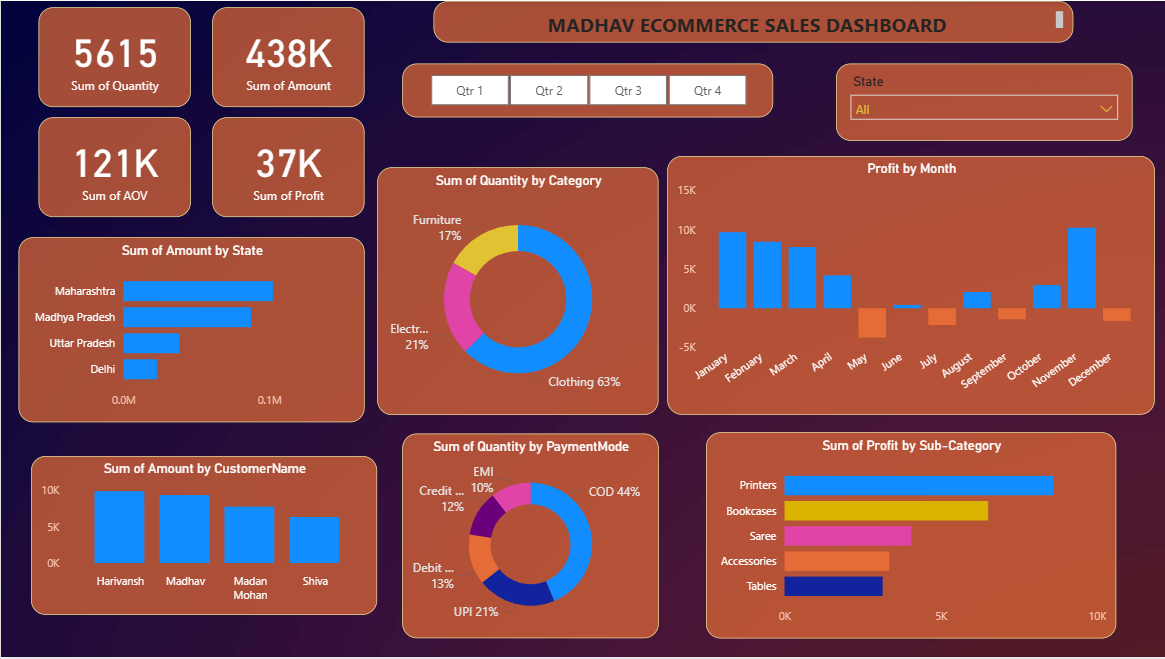

The page's visual inventory and layout, read from the dashboard file:
{"tool":"powerbi","page":{"name":"Page 1","canvas":[1280,720],"ordinal":0},"visuals":[{"type":"textbox","box":[474.8,0,702.6,45.3],"z":0},{"type":"columnChart","title":"Profit by Month","fields":{"Category":["Orders.Order Date.Variation.Date Hierarchy.Month"],"Y":["Sum(Details.Profit)"]},"box":[731.4,170.2,535.2,284],"z":1000},{"type":"barChart","fields":{"Category":["Details.Sub-Category"],"Y":["Sum(Details.Profit)"]},"box":[773.9,473.4,450.1,226.4],"z":2000},{"type":"donutChart","fields":{"Category":["Details.Category"],"Y":["Sum(Details.Quantity)"]},"box":[413,182.5,308.7,271.7],"z":3000},{"type":"donutChart","fields":{"Y":["Sum(Details.Quantity)"],"Category":["Details.PaymentMode"]},"box":[440.5,474.8,281.3,225],"z":4000},{"type":"card","fields":{"Values":["Sum(Details.Amount)"]},"box":[231.9,6.9,167.4,109.8],"z":5000},{"type":"card","fields":{"Values":["Sum(Details.Quantity)"]},"box":[41.2,6.9,167.4,109.8],"z":6000},{"type":"card","fields":{"Values":["Sum(Details.Profit)"]},"box":[231.9,127.6,167.4,109.8],"z":7000},{"type":"card","fields":{"Values":["Sum(Details.AOV)"]},"box":[41.2,127.6,167.4,109.8],"z":8000},{"type":"barChart","fields":{"Category":["Orders.State"],"Y":["Sum(Details.Amount)"]},"box":[19.2,259.3,380.1,203.1],"z":9000},{"type":"columnChart","fields":{"Category":["Orders.CustomerName"],"Y":["Sum(Details.Amount)"]},"box":[32.9,499.5,380.1,174.3],"z":10000},{"type":"slicer","fields":{"Values":["Orders.State"]},"box":[916.6,68.6,325.2,85.1],"z":11000},{"type":"slicer","fields":{"Values":["Orders.Order Date.Variation.Date Hierarchy.Quarter"]},"box":[440.5,68.6,407.5,59],"z":12000}]}

Visuals, with their boxes in screenshot pixels (x1, y1, x2, y2), scaled from the page's 1280x720 canvas onto the 1165x659 screenshot:
textbox: [432,0,1072,41]
"Profit by Month" columnChart: [666,156,1153,416]
barChart - Details.Sub-Category x Sum(Details.Profit): [704,433,1114,641]
donutChart - Details.Category x Sum(Details.Quantity): [376,167,657,416]
donutChart - Sum(Details.Quantity) x Details.PaymentMode: [401,435,657,641]
card - Sum(Details.Amount): [211,6,363,107]
card - Sum(Details.Quantity): [37,6,190,107]
card - Sum(Details.Profit): [211,117,363,217]
card - Sum(Details.AOV): [37,117,190,217]
barChart - Orders.State x Sum(Details.Amount): [17,237,363,423]
columnChart - Orders.CustomerName x Sum(Details.Amount): [30,457,376,617]
slicer - Orders.State: [834,63,1130,141]
slicer - Orders.Order Date.Variation.Date Hierarchy.Quarter: [401,63,772,117]
